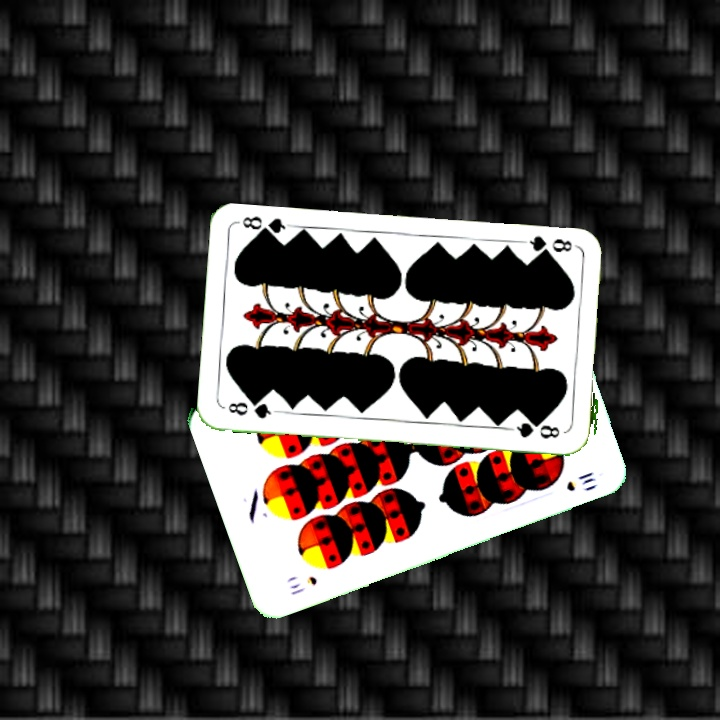G8: (525, 232, 583, 260), (223, 398, 280, 421)
S10: (286, 572, 320, 598)
